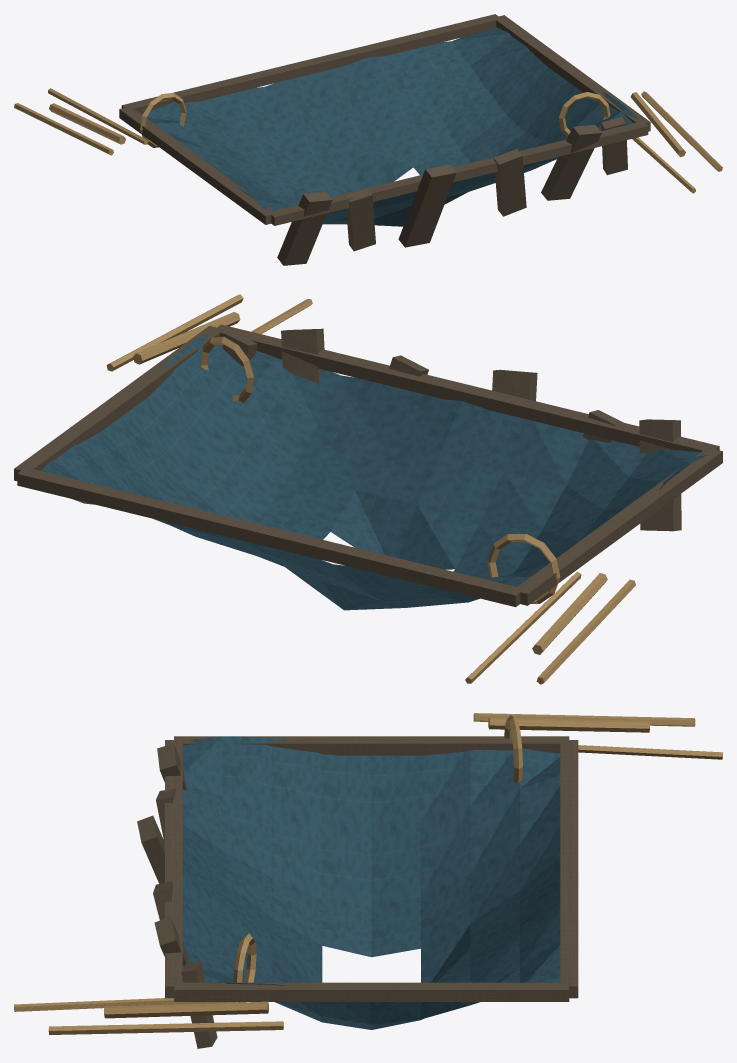
Rendered from en-023_storm_damage_debris_set__loose_cloth.obj.
The picture shows the model from 3 angles, top to bottom: view 1: azimuth 30°, elevation 25°; view 2: azimuth 150°, elevation 25°; view 3: azimuth 270°, elevation 25°; orthographic projection. The views are drawn at different scales.
Visible parts, largest first — view 1: en-023_storm_damage_debris_set__loose_cloth; view 2: en-023_storm_damage_debris_set__loose_cloth; view 3: en-023_storm_damage_debris_set__loose_cloth.
Part boxes in pixels (bbox=[...]): en-023_storm_damage_debris_set__loose_cloth: bbox=[14, 14, 722, 265]; en-023_storm_damage_debris_set__loose_cloth: bbox=[14, 294, 722, 684]; en-023_storm_damage_debris_set__loose_cloth: bbox=[14, 713, 722, 1048].
Bounding box in the file's own units: 1.48 × 0.365 × 1.4.
Materials: 3 (3 with a texture image).
